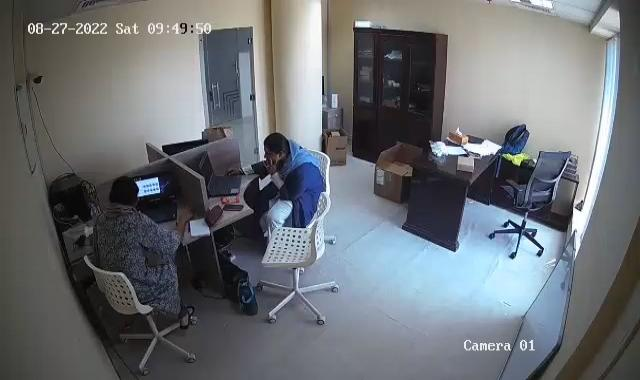no_hairnet: (105, 174, 139, 210), (259, 134, 292, 170)
